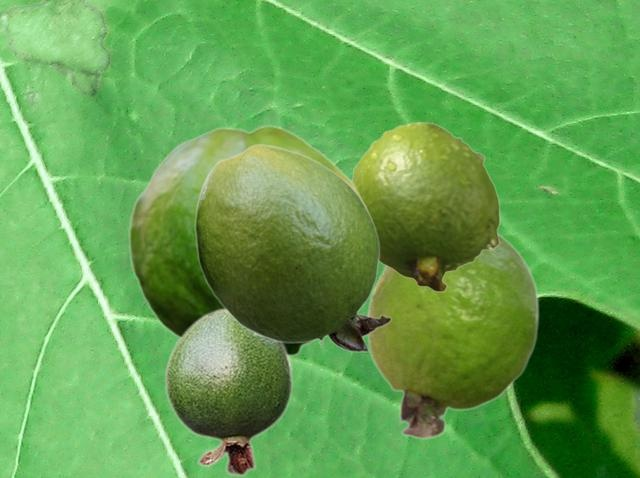guava: (128, 124, 368, 356), (194, 143, 391, 351), (366, 232, 539, 439), (352, 121, 499, 291), (164, 307, 293, 476)
